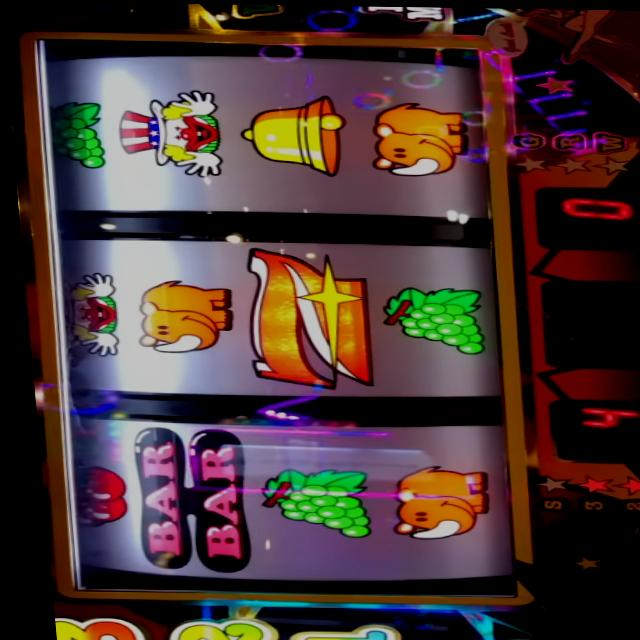bar: (119, 426, 243, 571)
bell: (238, 94, 345, 173)
cherry: (62, 462, 118, 527)
clown: (114, 89, 228, 177), (54, 270, 121, 355)
display: (25, 39, 518, 596)
elephant: (362, 101, 465, 176), (126, 279, 231, 352), (380, 464, 483, 537)
grape: (248, 466, 363, 539), (372, 286, 483, 353), (45, 98, 104, 167)
z: (236, 246, 369, 388)
